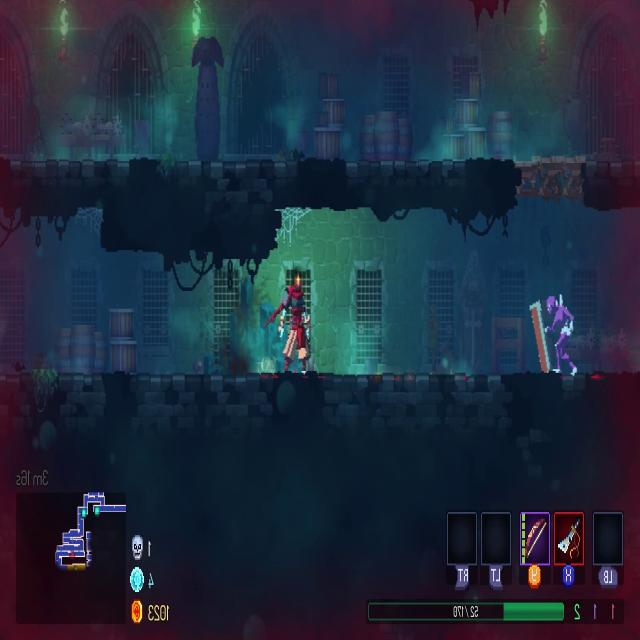agents: (274, 279, 307, 378)
enemy_purple_shield: (531, 290, 574, 373)
wood_floor: (510, 153, 586, 205)
